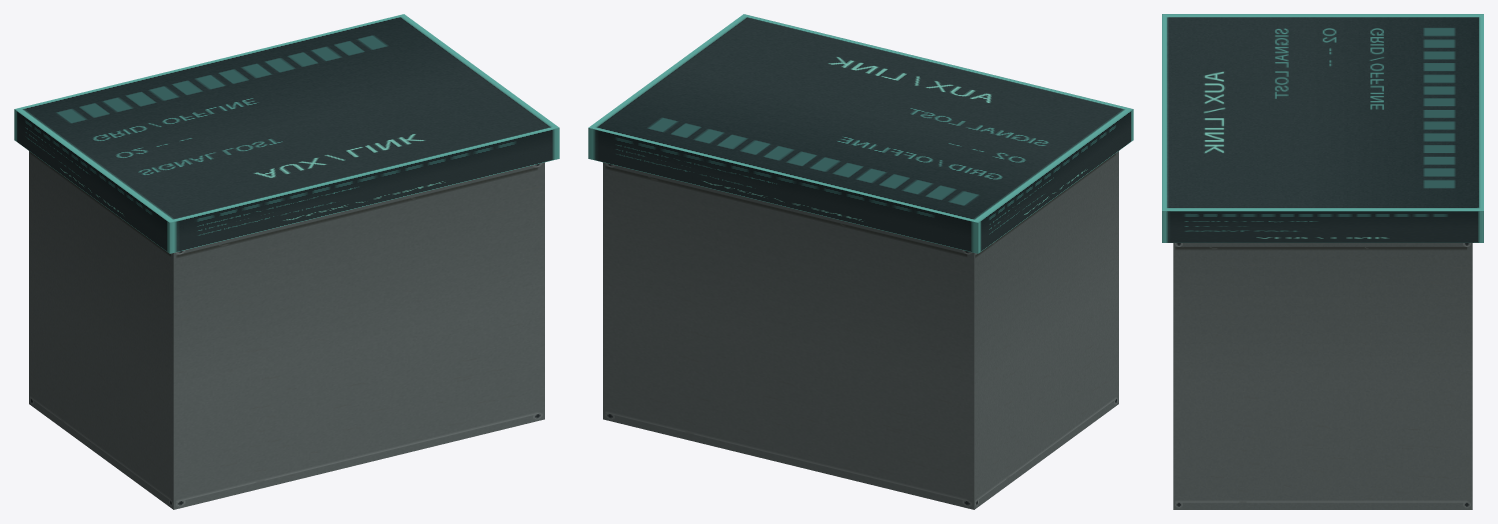
File: generator_LOD3.obj
The picture shows the model from 3 angles, left to right: view 1: azimuth 30°, elevation 25°; view 2: azimuth 150°, elevation 25°; view 3: azimuth 270°, elevation 25°; orthographic projection. The views are drawn at different scales.
Parts seen in each view (by area): view 1: L02_generator_LOD3; view 2: L02_generator_LOD3; view 3: L02_generator_LOD3.
Part boxes in pixels (x1=…): L02_generator_LOD3: x1=14, y1=14, x2=559, y2=509; L02_generator_LOD3: x1=588, y1=14, x2=1133, y2=509; L02_generator_LOD3: x1=1162, y1=14, x2=1483, y2=509.
Size of the model in its own units: 2.1 by 1.51 by 1.45.
Materials: 1 (1 with a texture image).
